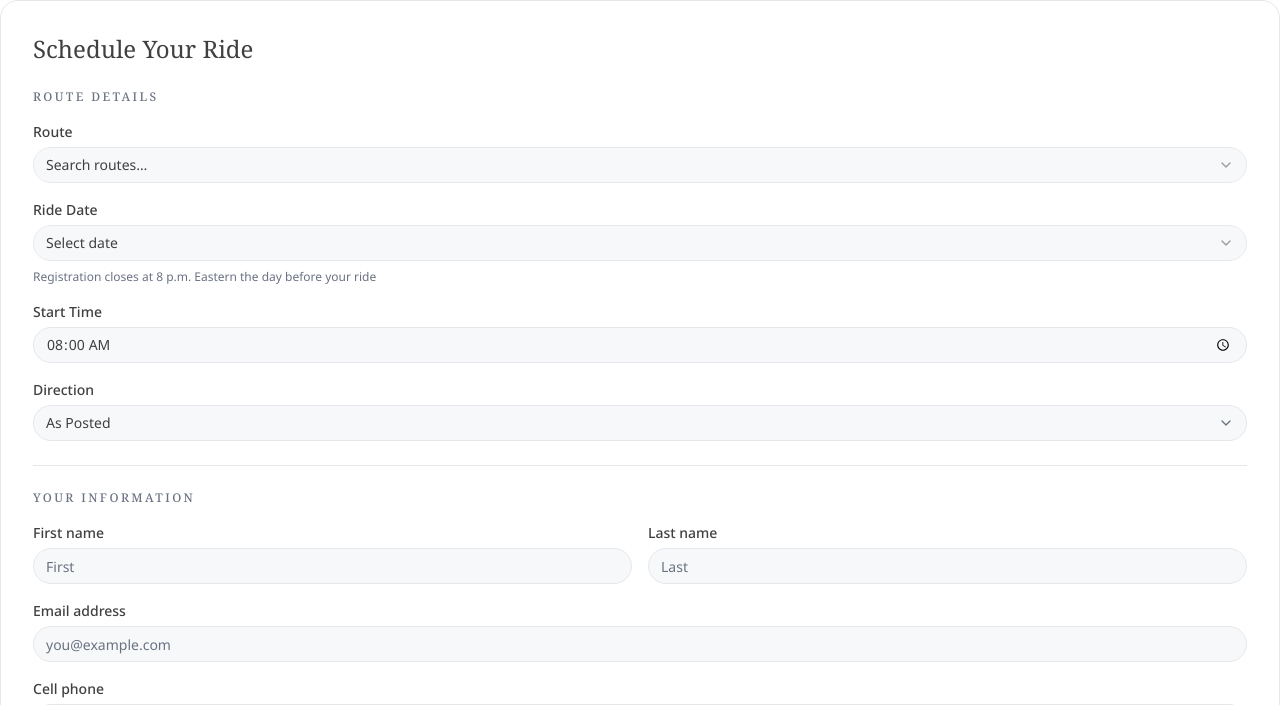
Test case: PermanentRegistrationForm › start location field › shows the posted start without the button when the track is unavailable
This screenshot has width=1280, height=705.
What coordinates should you click on to do the following:
click the dropdown labelled "route"
I would click on:
 (97, 164)
Its box is x1=33 y1=147 x2=1247 y2=183.
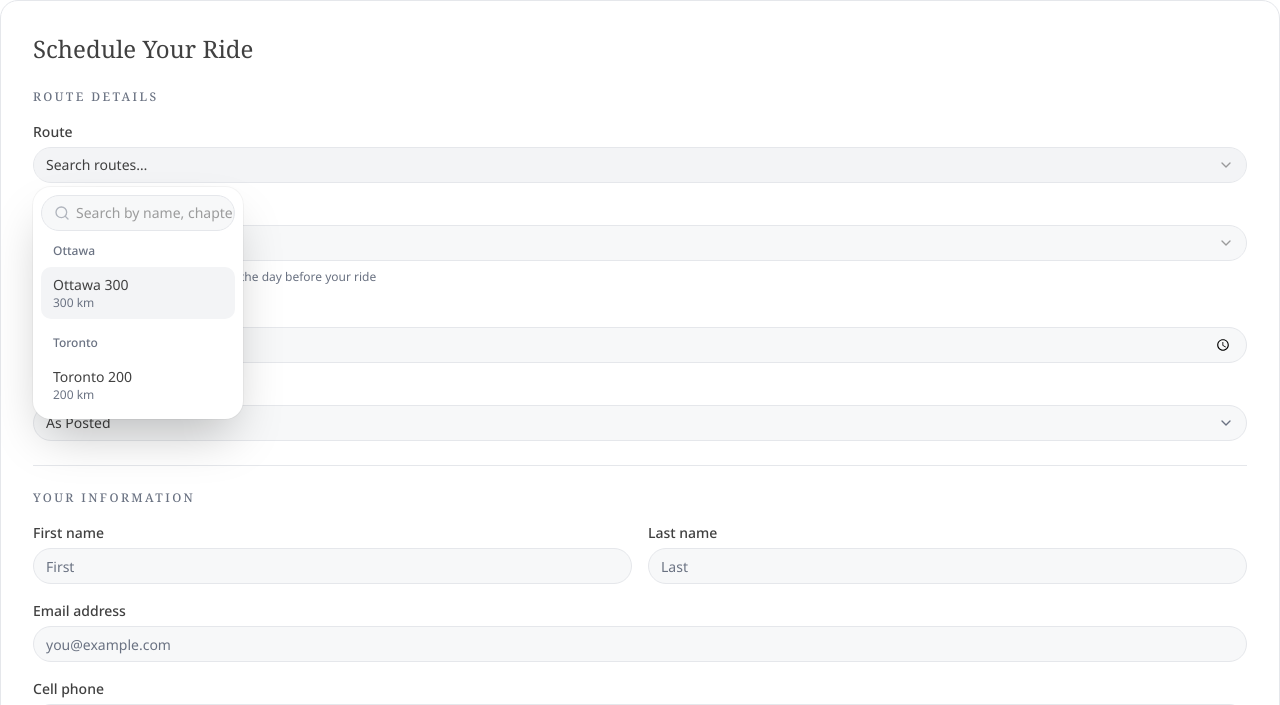
What coordinates should you click on to do the following:
click the option "Toronto 200 200 km"
I would click on:
 (93, 385)
Its box is x1=53 y1=367 x2=132 y2=403.
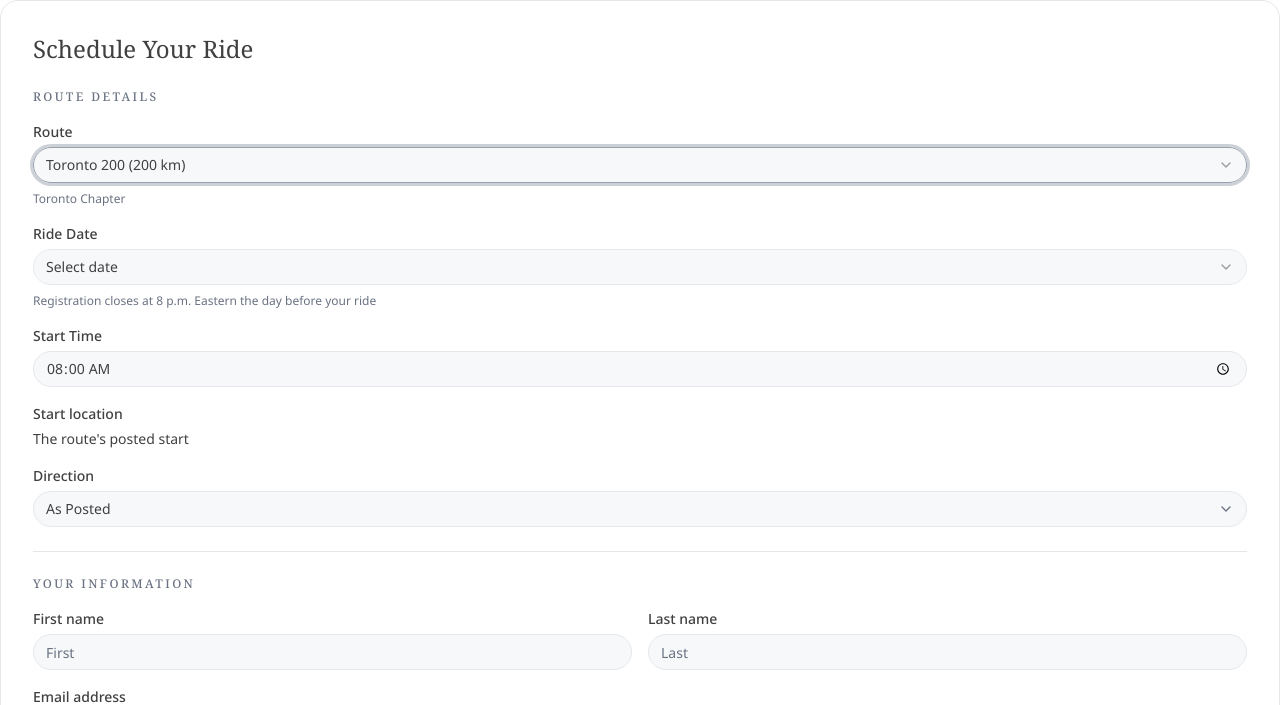
Expected: the text "The route's posted start" is shown, x1=33 y1=429 x2=189 y2=448
